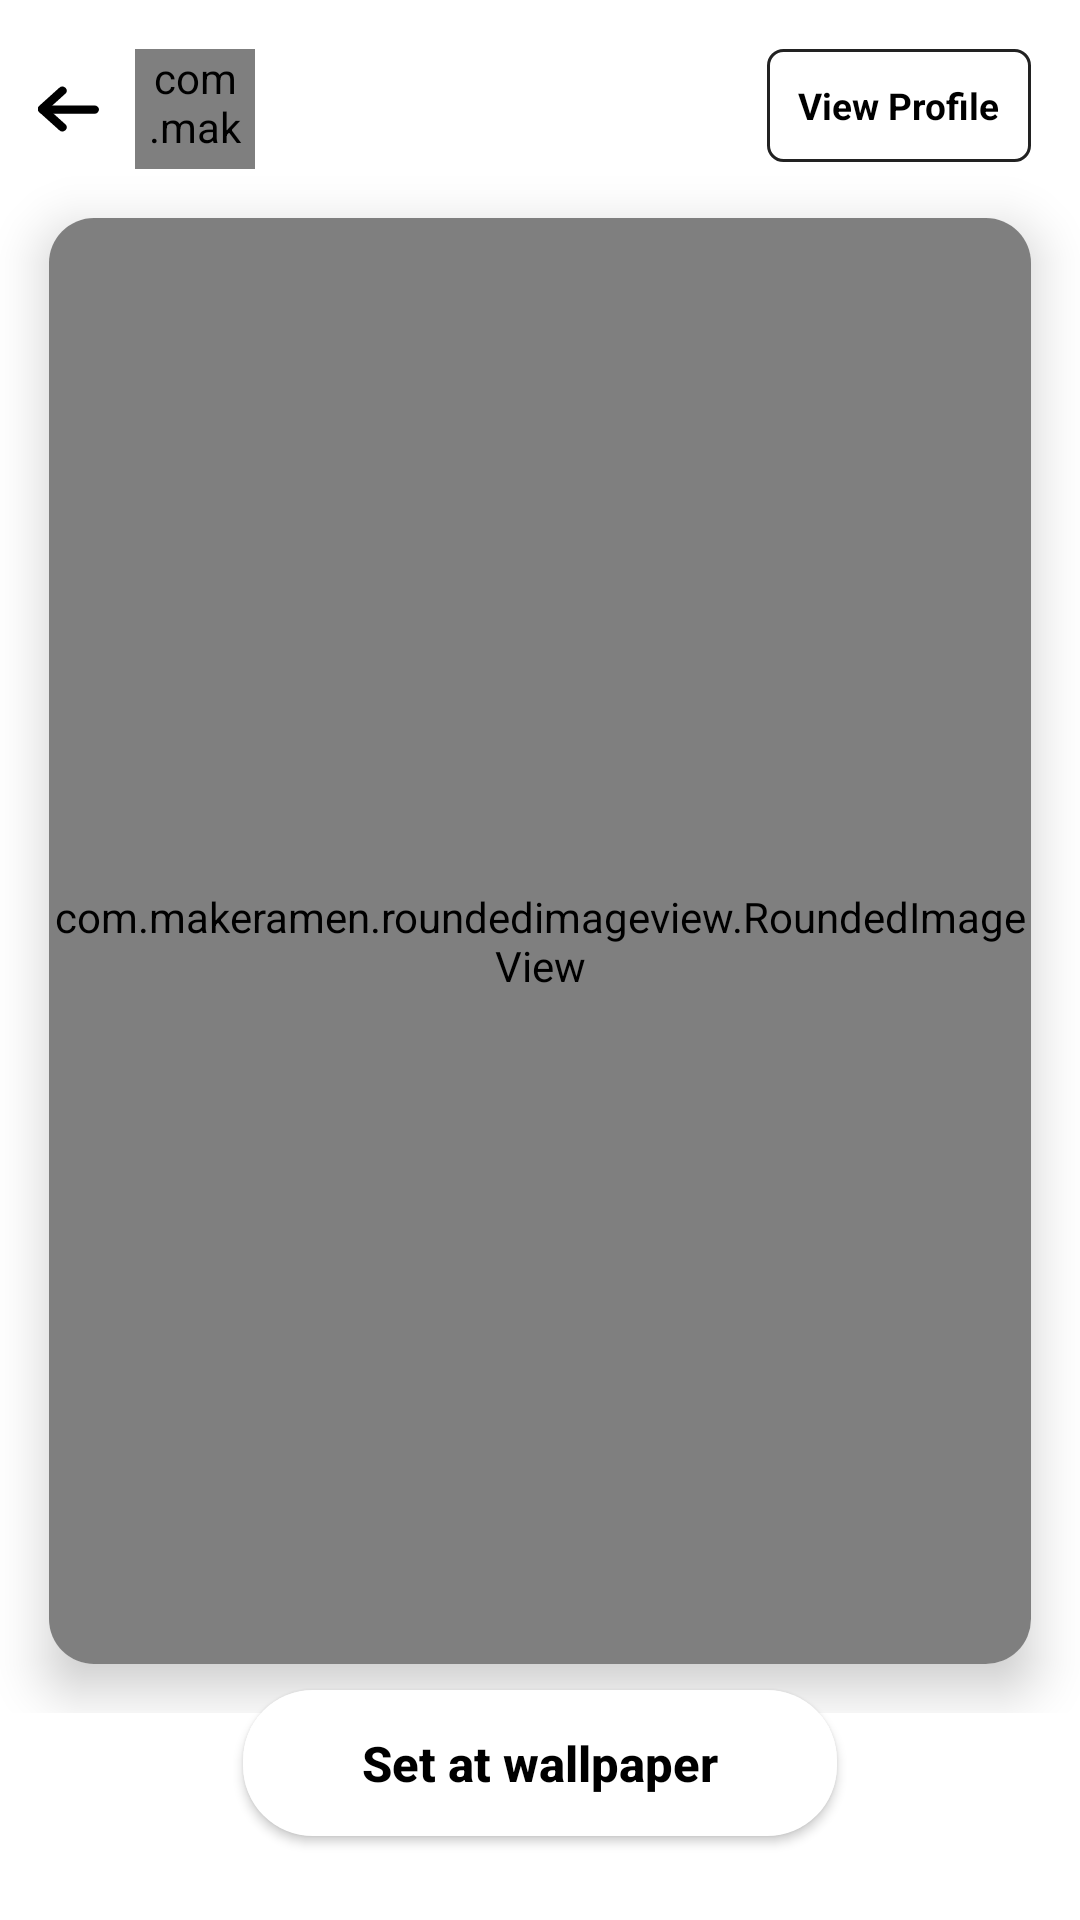

Icons on this 1080x1920 Android screen, each with the point to tap as [x,y]:
back: [68,109]
